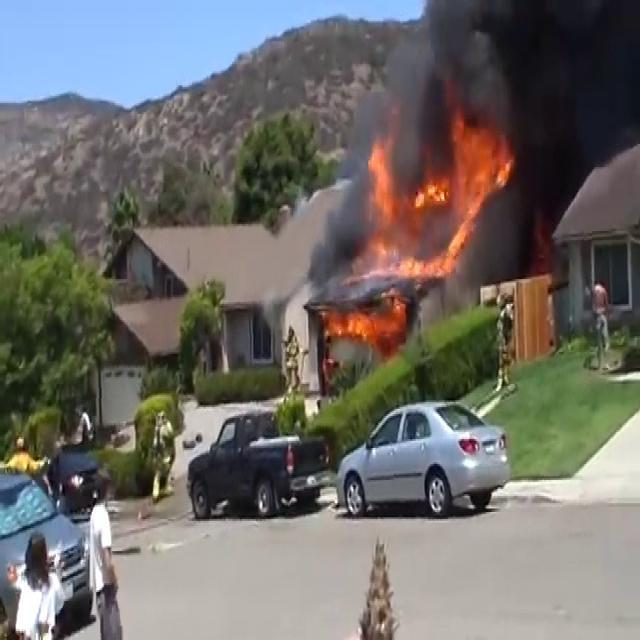Fire: (352, 112, 510, 290), (323, 291, 410, 345)
Smoke: (383, 0, 640, 228)
